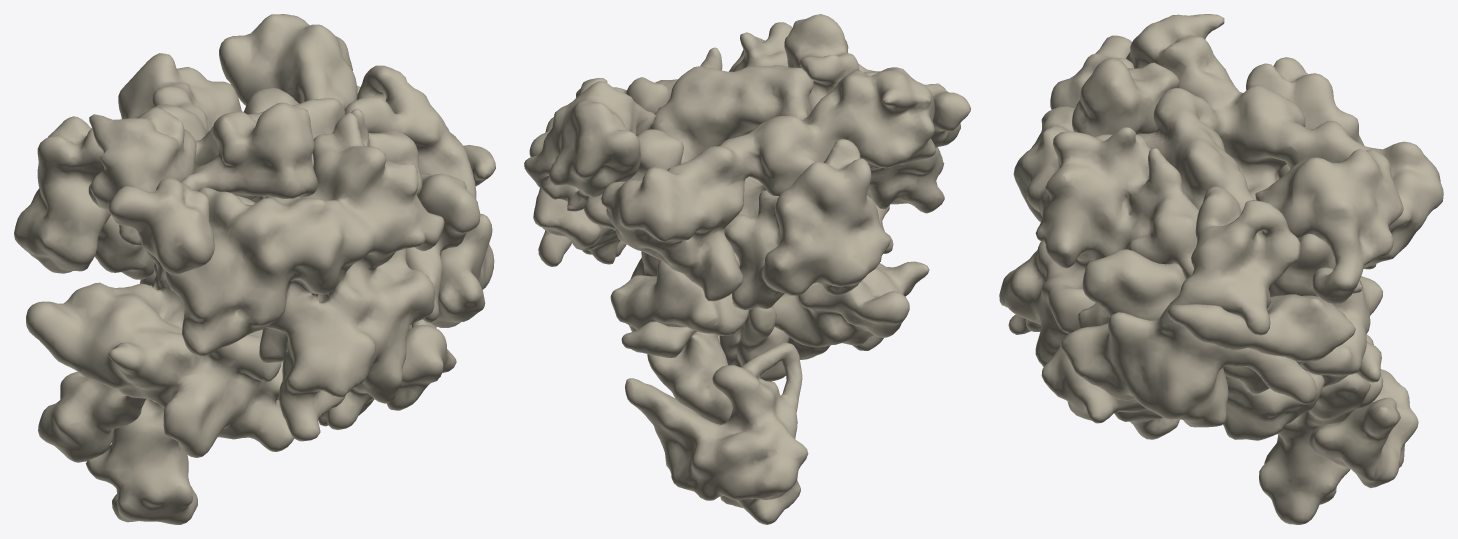
Rendered from polymerase-full.glb.
3 views of the same model, side by side, from view 1: azimuth 30°, elevation 25°; view 2: azimuth 150°, elevation 25°; view 3: azimuth 270°, elevation 25° (orthographic). The views are drawn at different scales.
Visible parts, largest first — view 1: RNAP_RPB2, RNAP_RPB1, RNAP_RPB9, RNAP_RPB5, RNAP_RPB3, RNAP_RPB8, RNAP_RPB7, RNAP_RPB4, RNAP_RPB10, RNAP_RPB12, RNAP_RPB11; view 2: RNAP_RPB1, RNAP_RPB5, RNAP_RPB4, RNAP_RPB8, RNAP_RPB2, RNAP_RPB6, RNAP_RPB9, RNAP_RPB7, RNAP_RPB11, RNAP_RPB3; view 3: RNAP_RPB1, RNAP_RPB2, RNAP_RPB3, RNAP_RPB8, RNAP_RPB11, RNAP_RPB7, RNAP_RPB9, RNAP_RPB4, RNAP_RPB10, RNAP_RPB5, RNAP_RPB6, RNAP_RPB12.
Part boxes in pixels (x1,y1,x2,y2): RNAP_RPB2: (150,108,444,441); RNAP_RPB1: (26,53,357,457); RNAP_RPB9: (108,102,317,274); RNAP_RPB5: (14,116,154,279); RNAP_RPB3: (344,65,494,327); RNAP_RPB8: (219,14,360,108); RNAP_RPB7: (85,399,197,524); RNAP_RPB4: (38,371,146,462); RNAP_RPB10: (406,173,480,322); RNAP_RPB12: (386,319,456,410); RNAP_RPB11: (463,145,495,186); RNAP_RPB1: (583,65,936,365); RNAP_RPB5: (724,139,890,310); RNAP_RPB4: (625,342,808,500); RNAP_RPB8: (524,81,656,211); RNAP_RPB2: (655,22,944,381); RNAP_RPB6: (610,260,749,335); RNAP_RPB9: (784,14,970,147); RNAP_RPB7: (647,331,800,524); RNAP_RPB11: (533,117,620,264); RNAP_RPB3: (529,77,670,266); RNAP_RPB1: (1126,14,1443,440); RNAP_RPB2: (999,106,1198,439); RNAP_RPB3: (1060,186,1317,427); RNAP_RPB8: (1255,149,1403,303); RNAP_RPB11: (1167,294,1355,394); RNAP_RPB7: (1259,373,1383,524); RNAP_RPB9: (1050,35,1179,136); RNAP_RPB4: (1309,334,1418,488); RNAP_RPB10: (1078,249,1185,329); RNAP_RPB5: (1246,57,1364,178); RNAP_RPB6: (1300,276,1382,387); RNAP_RPB12: (1041,346,1146,423).
Size of the model in its own units: 2.26 by 2.41 by 2.08.
